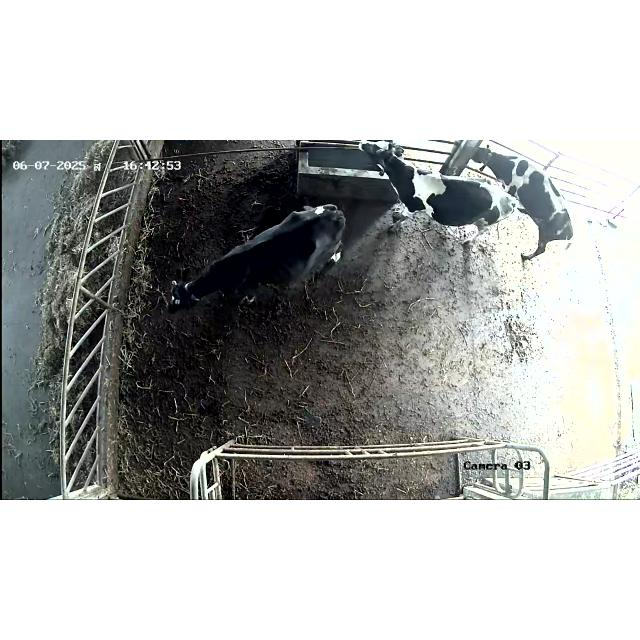stand: (156, 200, 360, 326), (358, 140, 516, 252), (475, 140, 577, 268)
